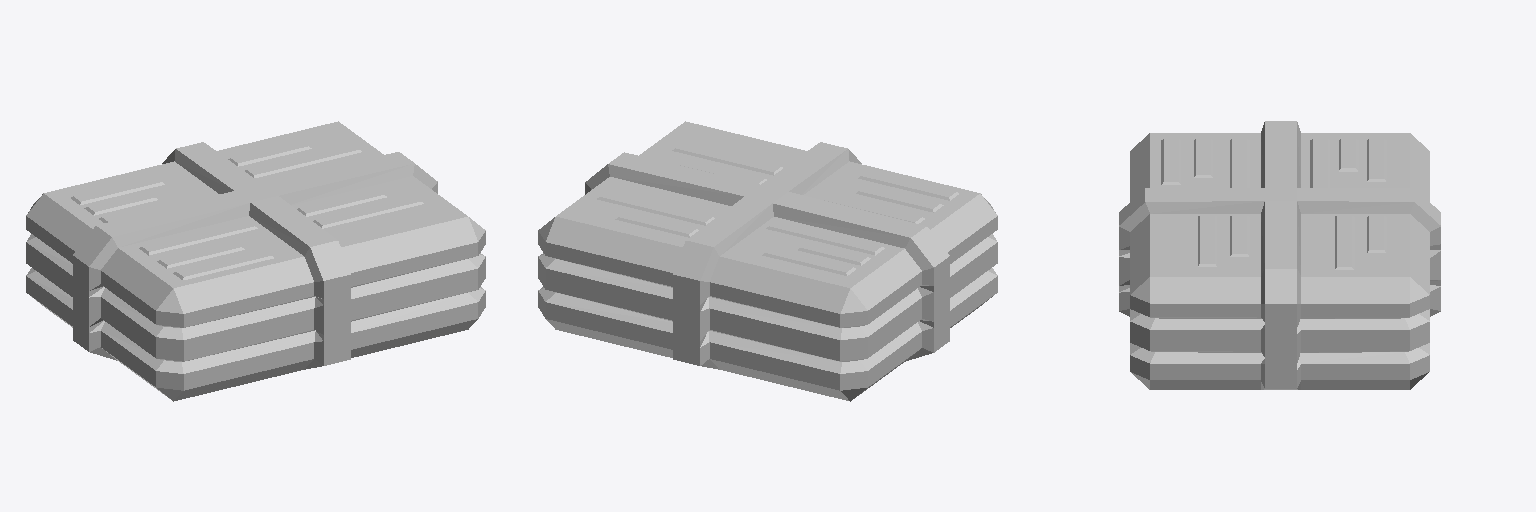
File: newspaper_stacked.obj
3 renders of one model, left to right at view 1: azimuth 30°, elevation 25°; view 2: azimuth 150°, elevation 25°; view 3: azimuth 270°, elevation 25°, orthographic.
Visible parts, largest first — view 1: newspaper_stacked; view 2: newspaper_stacked; view 3: newspaper_stacked.
Boxes of the visible parts, x1,y1,x2,y2 form: newspaper_stacked: [26, 121, 485, 401]; newspaper_stacked: [538, 121, 997, 401]; newspaper_stacked: [1119, 121, 1440, 389].
Bounding box in the file's own units: 1 × 0.34 × 0.8.